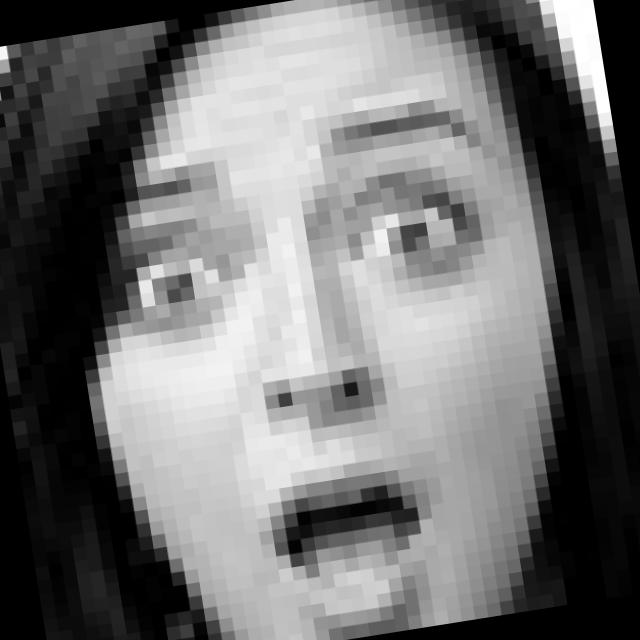surprise: (96, 92, 563, 640)
